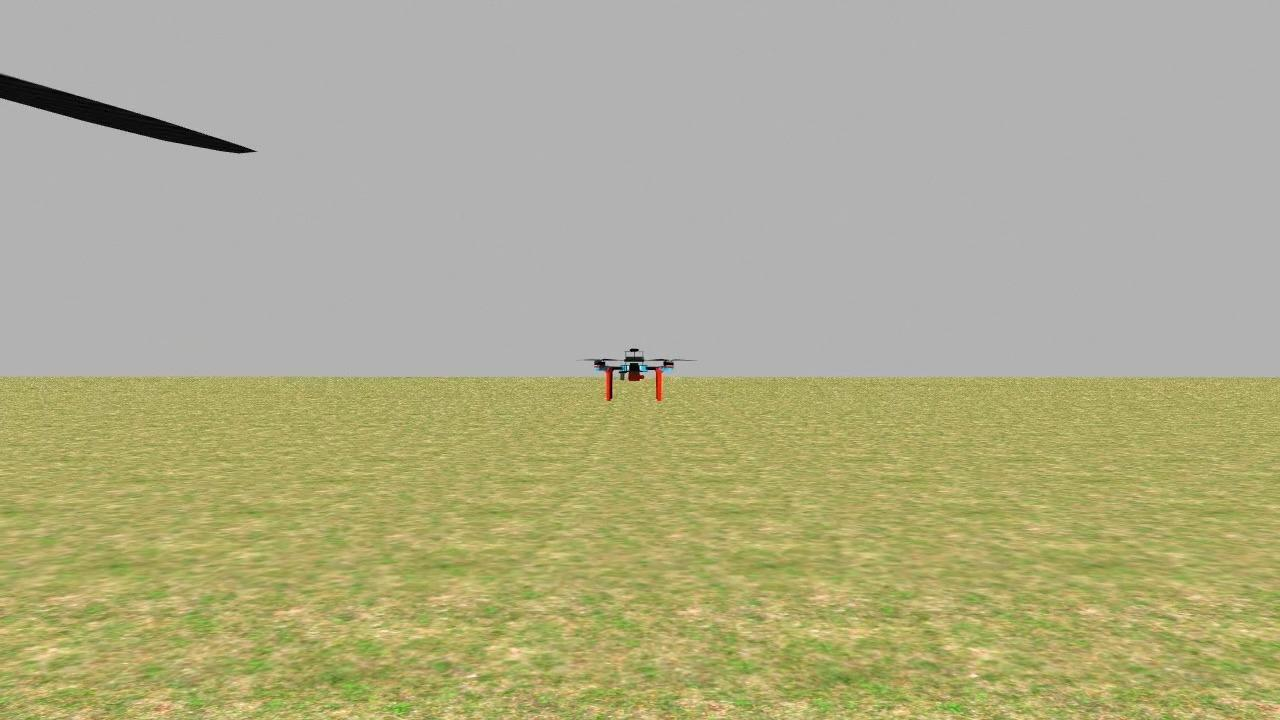UAV: (578, 320, 704, 402)
